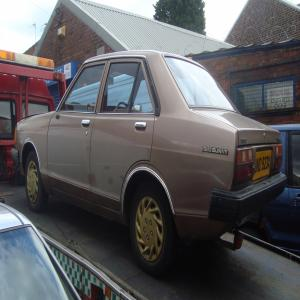Vehicle-registration-plate: (257, 150, 277, 182)
